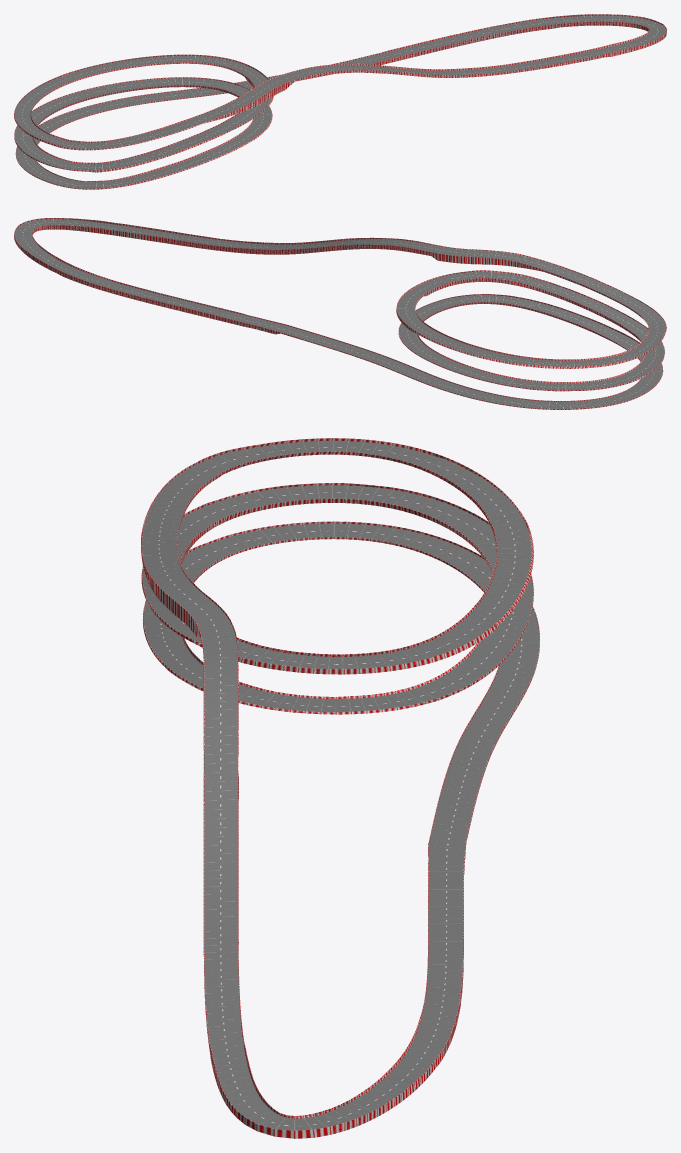
Rendered from mapica.obj.
3 views of the same model, one above another, from view 1: azimuth 30°, elevation 25°; view 2: azimuth 150°, elevation 25°; view 3: azimuth 270°, elevation 25° (orthographic). The views are drawn at different scales.
Visible parts, largest first — view 1: CarGladi_CarGladiH; view 2: CarGladi_CarGladiH; view 3: CarGladi_CarGladiH.
Boxes of the visible parts, <box> form: CarGladi_CarGladiH: <box>14,14,666,189</box>; CarGladi_CarGladiH: <box>14,218,666,409</box>; CarGladi_CarGladiH: <box>141,438,539,1138</box>.
Size of the model in its own units: 2081 by 197 by 572.
1 material, 1 textured.
